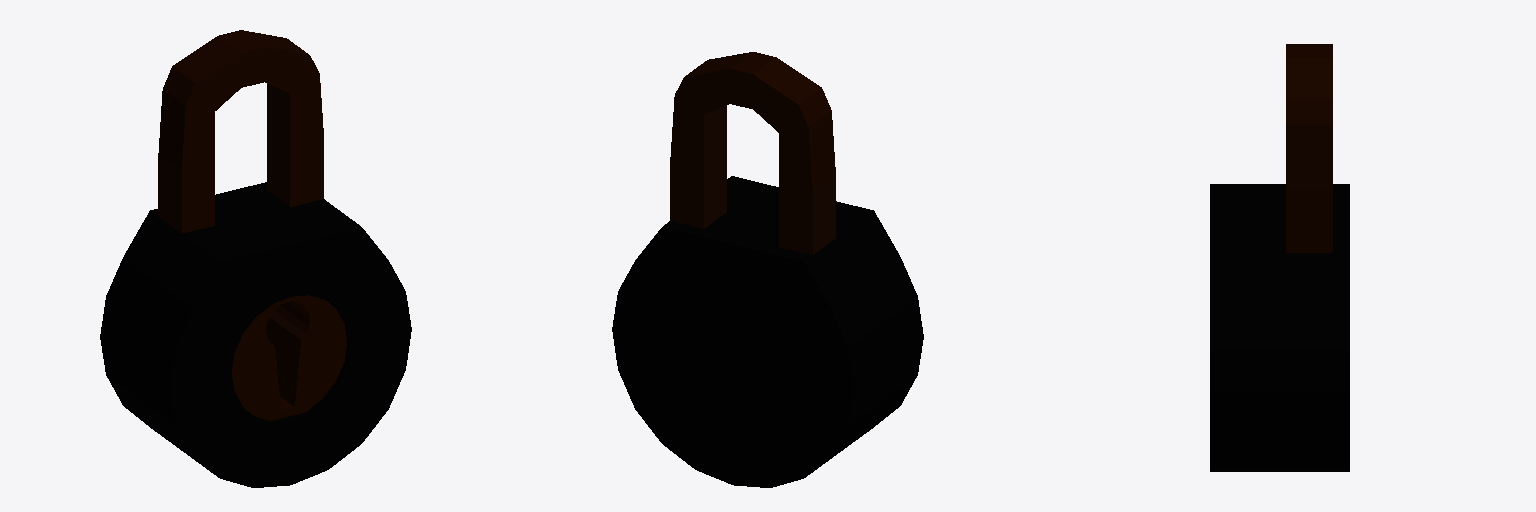
File: BasementLock.obj
3 views of the same model, side by side, from view 1: azimuth 30°, elevation 25°; view 2: azimuth 150°, elevation 25°; view 3: azimuth 270°, elevation 25° (orthographic).
Visible parts, largest first — view 1: Basement_Lock_Cylinder; view 2: Basement_Lock_Cylinder; view 3: Basement_Lock_Cylinder.
Boxes of the visible parts, x1,y1,x2,y2 form: Basement_Lock_Cylinder: [100, 30, 411, 487]; Basement_Lock_Cylinder: [612, 52, 923, 487]; Basement_Lock_Cylinder: [1210, 44, 1349, 471].
Bounding box in the file's own units: 2 × 3.22 × 1.